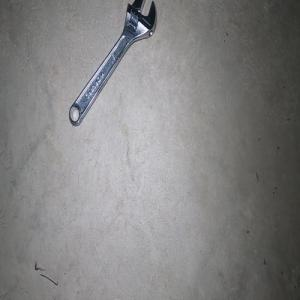Wrench: (68, 0, 156, 125)
